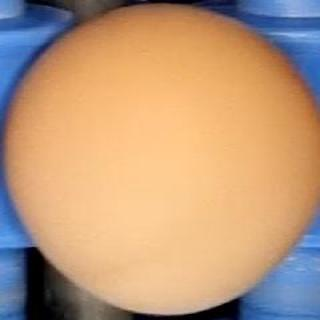Telur: (2, 3, 320, 317)
